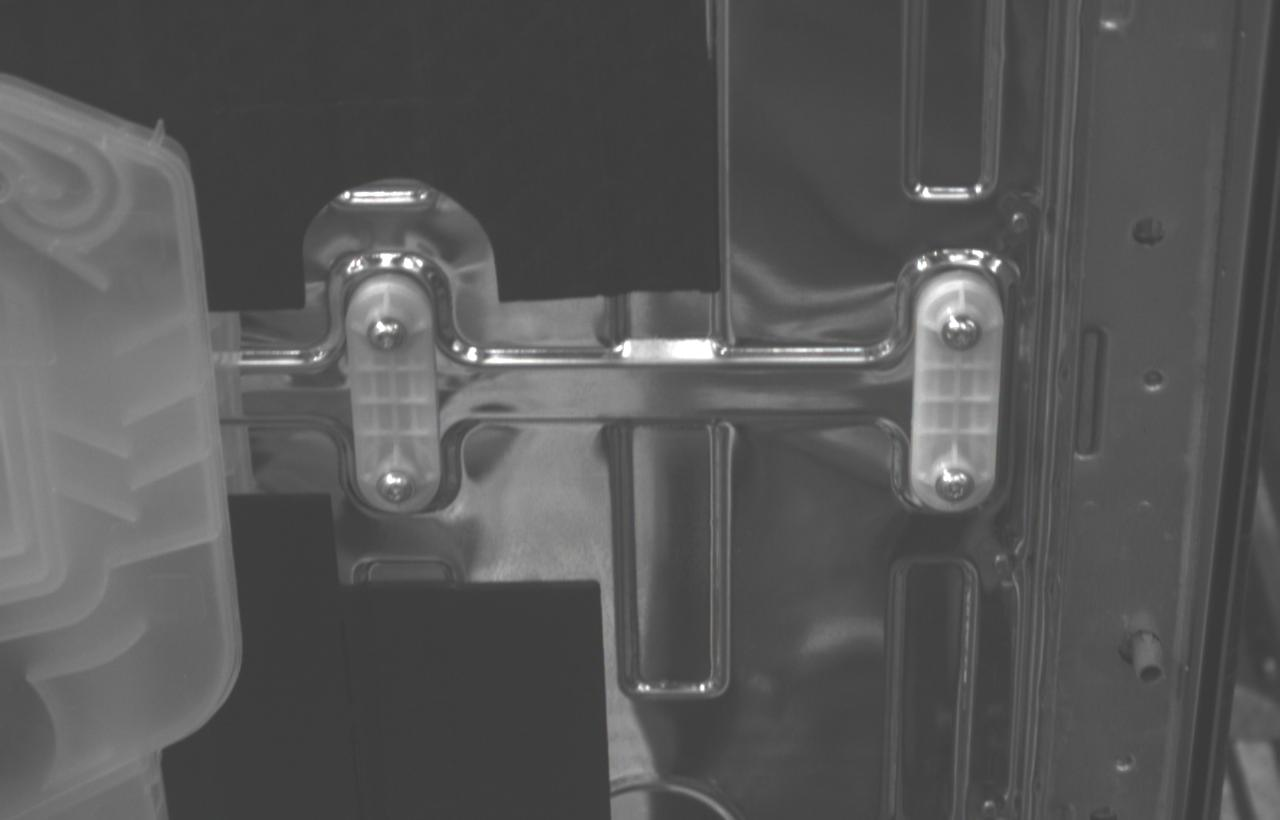vida-ok: (941, 314, 982, 351), (367, 316, 408, 352), (934, 468, 975, 504), (375, 469, 415, 505)
